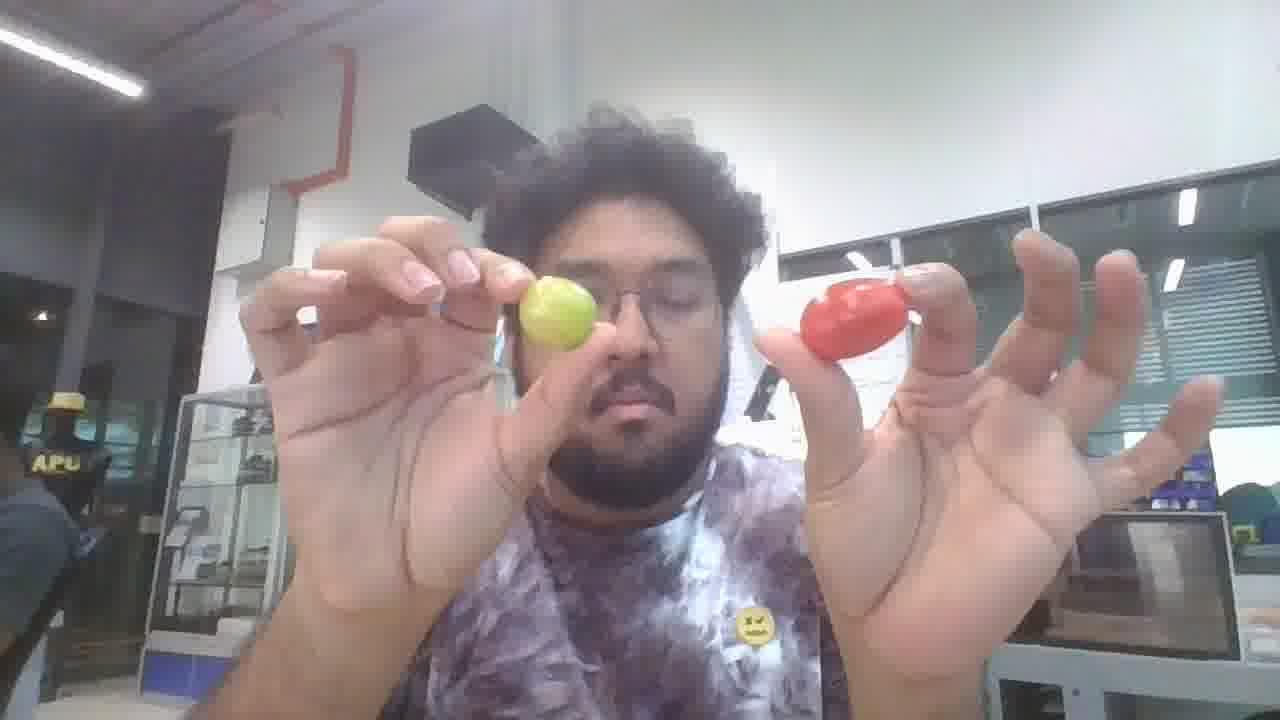green_cherry_tomato: (518, 276, 597, 350)
red_cherry_tomato: (800, 279, 907, 361)
